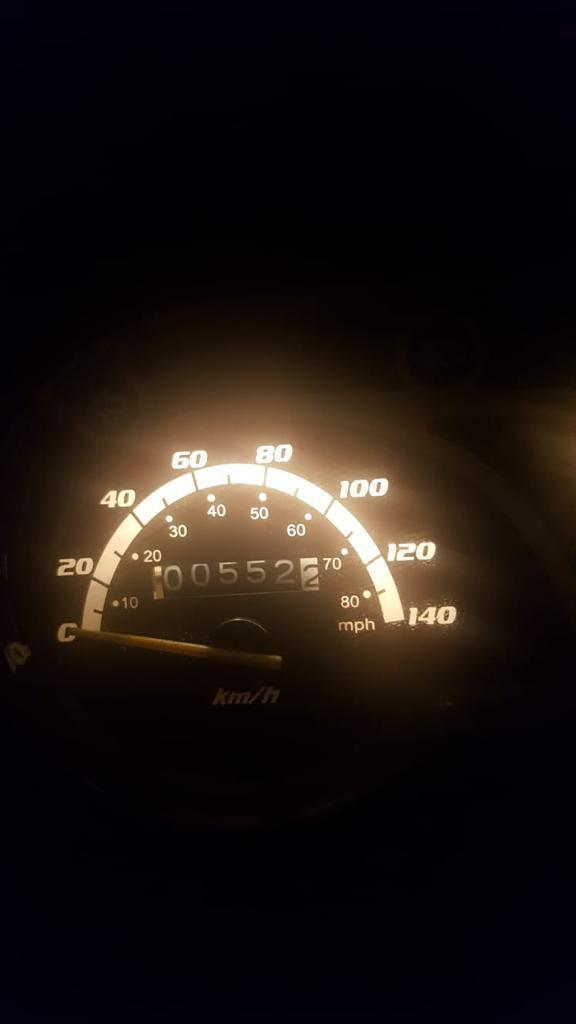0: (163, 562, 185, 593), (189, 560, 211, 589)
2: (274, 559, 295, 587), (301, 562, 320, 592)
5: (217, 558, 240, 585), (246, 557, 267, 585)
odometer: (161, 555, 324, 599)
